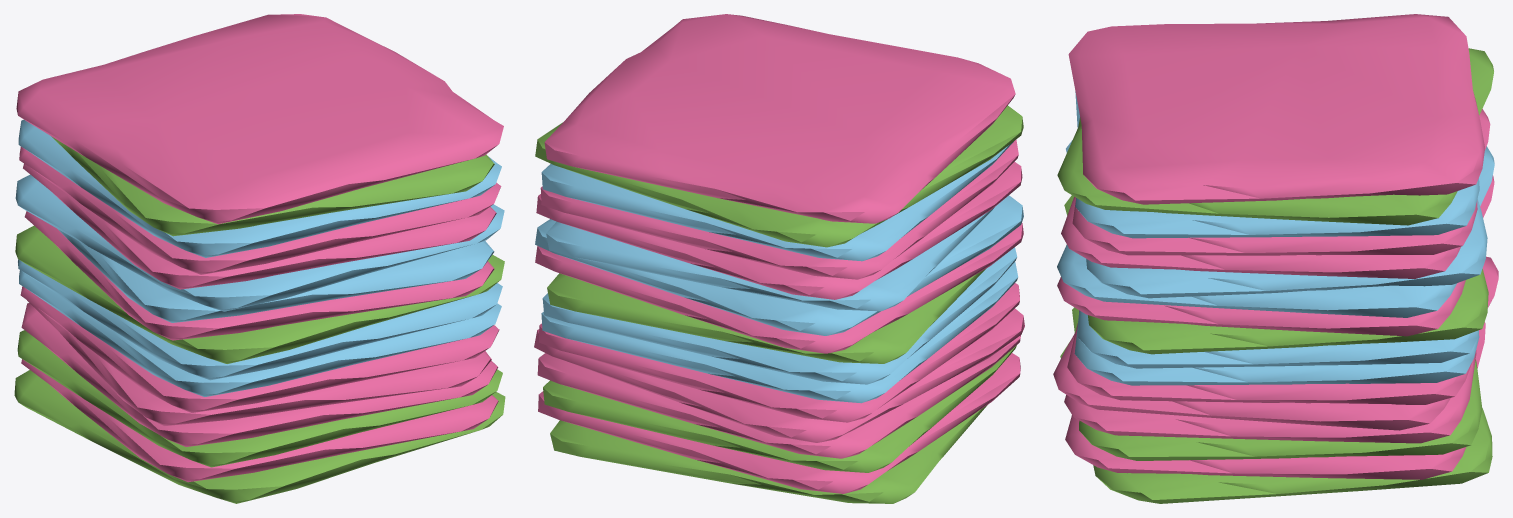
The model's file is cloth stack.fbx.
3 views of the same model, side by side, from view 1: azimuth 30°, elevation 25°; view 2: azimuth 150°, elevation 25°; view 3: azimuth 270°, elevation 25° (orthographic). The views are drawn at different scales.
Parts seen in each view (by area): view 1: Cloth_1_16, Cloth_2_0, Cloth_2_8, Cloth_11, Cloth_2_2, Cloth_14, Cloth_7, Cloth_6, Cloth_1_13, Cloth_1_3, Cloth_1_5, Cloth_10 (+5 smaller); view 2: Cloth_1_16, Cloth_10, Cloth_2_15, Cloth_1_4, Cloth_1_12, Cloth_1_9, Cloth_1_1, Cloth_1_3, Cloth_1_5, Cloth_1_13, Cloth_6, Cloth_14 (+5 smaller); view 3: Cloth_1_16, Cloth_2_15, Cloth_2_8, Cloth_10, Cloth_2_0, Cloth_11, Cloth_2_2, Cloth_1_4, Cloth_1_3, Cloth_14, Cloth_1_1, Cloth_1_12 (+5 smaller).
Boxes of the visible parts, x1=… form: Cloth_1_16: x1=16, y1=14, x2=503, y2=224; Cloth_2_0: x1=14, y1=370, x2=505, y2=503; Cloth_2_8: x1=15, y1=225, x2=504, y2=363; Cloth_11: x1=15, y1=174, x2=504, y2=311; Cloth_2_2: x1=17, y1=330, x2=502, y2=467; Cloth_14: x1=18, y1=119, x2=501, y2=257; Cloth_7: x1=18, y1=259, x2=502, y2=380; Cloth_6: x1=19, y1=270, x2=501, y2=396; Cloth_1_13: x1=19, y1=146, x2=501, y2=274; Cloth_1_3: x1=21, y1=303, x2=498, y2=446; Cloth_1_5: x1=20, y1=286, x2=499, y2=412; Cloth_10: x1=58, y1=229, x2=494, y2=322; Cloth_1_16: x1=544, y1=14, x2=1015, y2=223; Cloth_10: x1=535, y1=195, x2=1023, y2=335; Cloth_2_15: x1=535, y1=105, x2=1023, y2=247; Cloth_1_4: x1=534, y1=308, x2=1024, y2=442; Cloth_1_12: x1=536, y1=161, x2=1022, y2=299; Cloth_1_9: x1=535, y1=223, x2=1023, y2=353; Cloth_1_1: x1=538, y1=353, x2=1020, y2=493; Cloth_1_3: x1=537, y1=335, x2=1020, y2=458; Cloth_1_5: x1=539, y1=283, x2=1019, y2=422; Cloth_1_13: x1=540, y1=140, x2=1018, y2=279; Cloth_6: x1=541, y1=262, x2=1018, y2=403; Cloth_14: x1=541, y1=141, x2=1013, y2=261; Cloth_1_16: x1=1068, y1=14, x2=1484, y2=204; Cloth_2_15: x1=1057, y1=48, x2=1493, y2=225; Cloth_2_8: x1=1064, y1=195, x2=1488, y2=354; Cloth_10: x1=1057, y1=146, x2=1494, y2=317; Cloth_2_0: x1=1060, y1=342, x2=1492, y2=503; Cloth_11: x1=1066, y1=140, x2=1487, y2=298; Cloth_2_2: x1=1072, y1=307, x2=1482, y2=460; Cloth_1_4: x1=1053, y1=256, x2=1498, y2=430; Cloth_1_3: x1=1064, y1=350, x2=1476, y2=443; Cloth_14: x1=1075, y1=91, x2=1479, y2=238; Cloth_1_1: x1=1065, y1=322, x2=1485, y2=479; Cloth_1_12: x1=1061, y1=109, x2=1490, y2=278.
Size of the model in its own units: 222 by 173 by 219.
